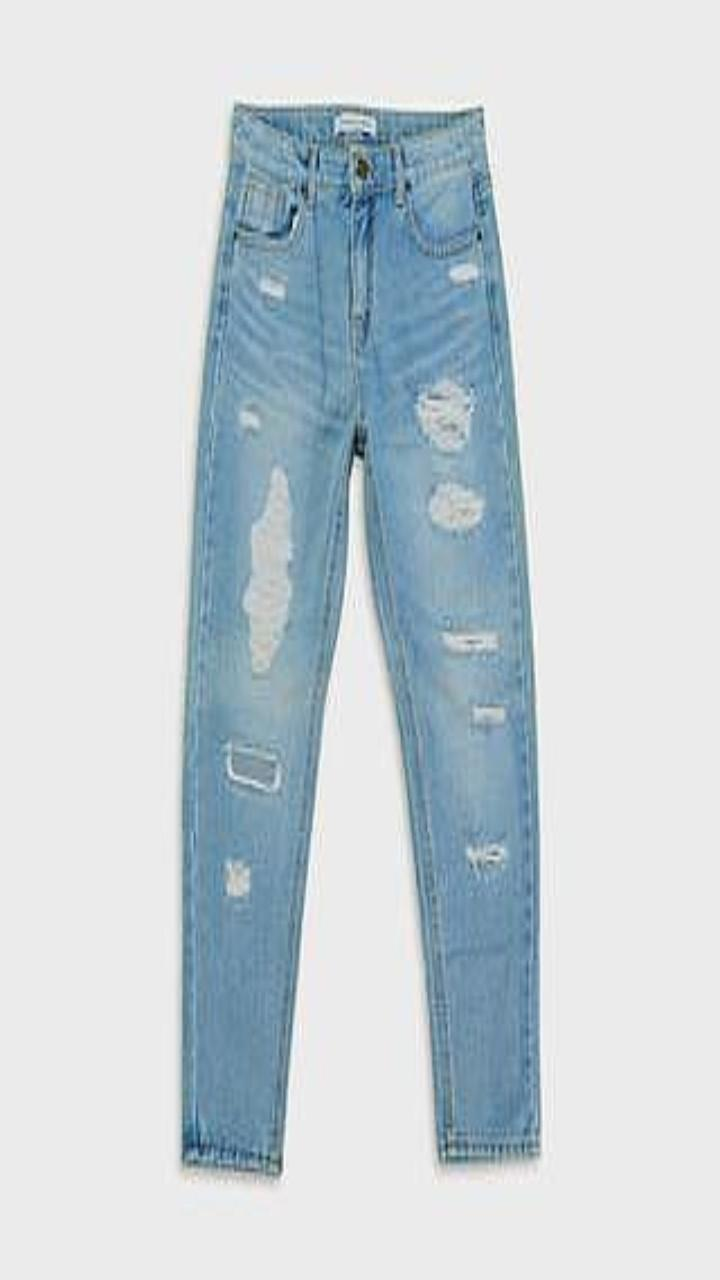Jeans: (182, 104, 538, 1173)
